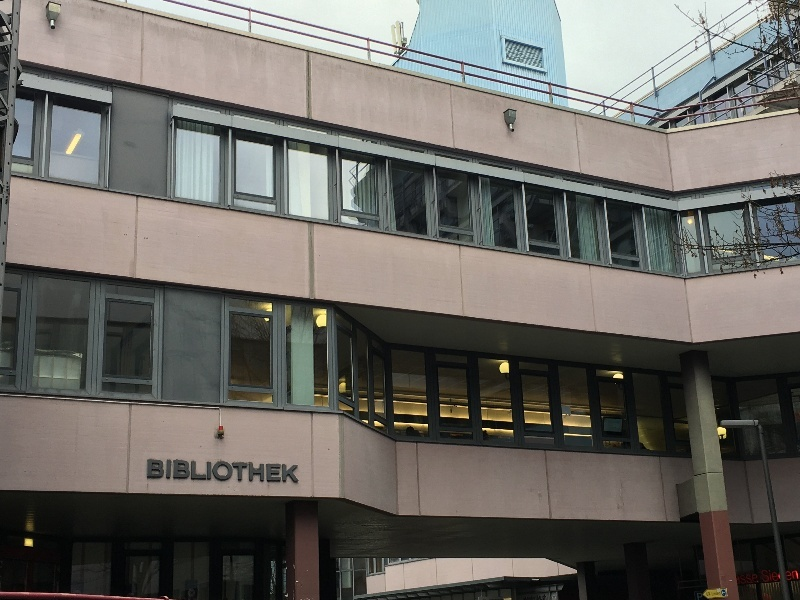text: (161, 460, 176, 483), (177, 460, 192, 483), (193, 460, 208, 483), (209, 460, 224, 483), (225, 460, 240, 483), (241, 460, 256, 483), (257, 460, 272, 483), (273, 460, 288, 483), (148, 460, 160, 483), (289, 460, 299, 483), (737, 574, 752, 585), (786, 571, 800, 581), (769, 570, 778, 583), (761, 570, 768, 583), (529, 594, 544, 600), (706, 591, 720, 597), (696, 593, 704, 600), (753, 574, 758, 585), (522, 594, 528, 600), (545, 594, 548, 600)
